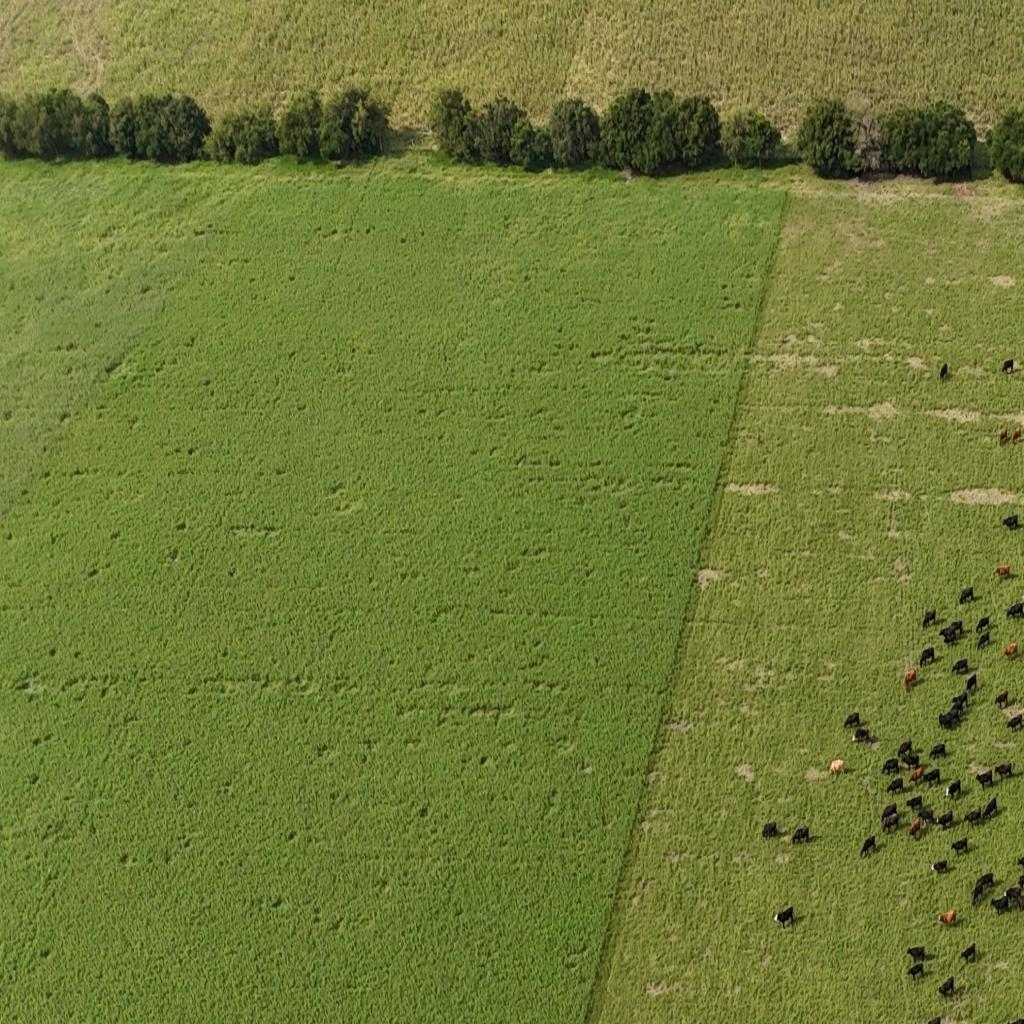cow: (774, 906, 794, 929), (881, 813, 902, 834), (1005, 710, 1024, 733), (982, 796, 998, 823), (937, 976, 955, 999), (994, 762, 1014, 782), (950, 689, 970, 709), (965, 806, 983, 828), (938, 710, 956, 732), (860, 834, 876, 858), (990, 894, 1008, 915), (882, 802, 899, 824), (945, 779, 962, 801), (792, 826, 810, 846), (906, 945, 926, 963), (951, 836, 969, 856), (976, 768, 994, 788), (936, 810, 954, 830), (898, 739, 916, 759), (922, 767, 940, 787), (918, 806, 936, 826), (963, 672, 978, 696), (948, 698, 966, 718), (907, 961, 925, 980), (852, 726, 871, 744), (1004, 603, 1023, 621), (882, 757, 900, 776), (886, 777, 904, 796), (961, 942, 976, 964), (938, 908, 956, 926), (903, 753, 921, 771), (978, 870, 996, 888), (920, 646, 936, 666), (976, 614, 992, 634), (908, 765, 924, 785), (938, 626, 958, 642), (907, 795, 923, 814), (922, 608, 937, 628), (952, 658, 969, 675), (844, 712, 860, 730), (959, 587, 975, 605), (931, 858, 949, 874), (949, 618, 965, 636), (908, 816, 921, 838), (940, 634, 962, 647), (972, 880, 984, 903), (762, 822, 778, 839), (1002, 514, 1019, 530), (930, 744, 946, 761), (829, 758, 844, 776), (904, 670, 916, 692), (994, 690, 1008, 708), (1012, 890, 1024, 911), (977, 631, 990, 650), (1012, 426, 1024, 446), (1003, 642, 1018, 658), (1007, 884, 1021, 900), (1002, 358, 1014, 376), (996, 564, 1010, 578), (1017, 851, 1024, 873), (940, 362, 948, 380), (1000, 427, 1008, 445), (926, 1016, 942, 1024), (1016, 875, 1024, 890)
